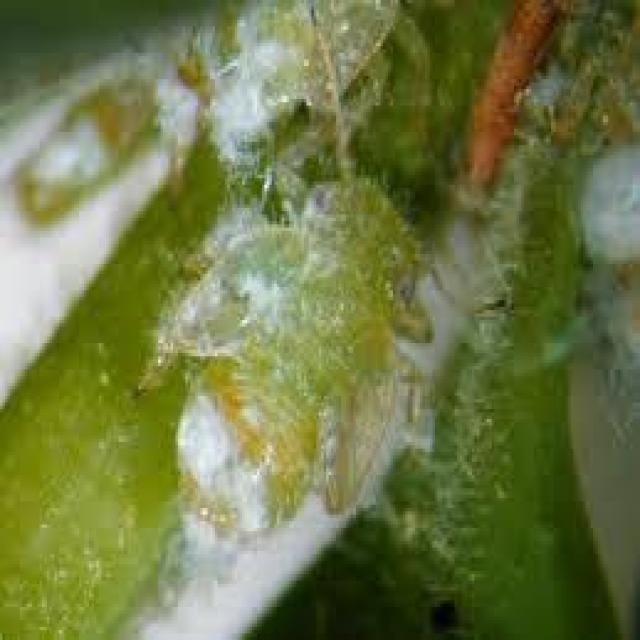Psyllid: (126, 178, 492, 637), (0, 0, 397, 360)
